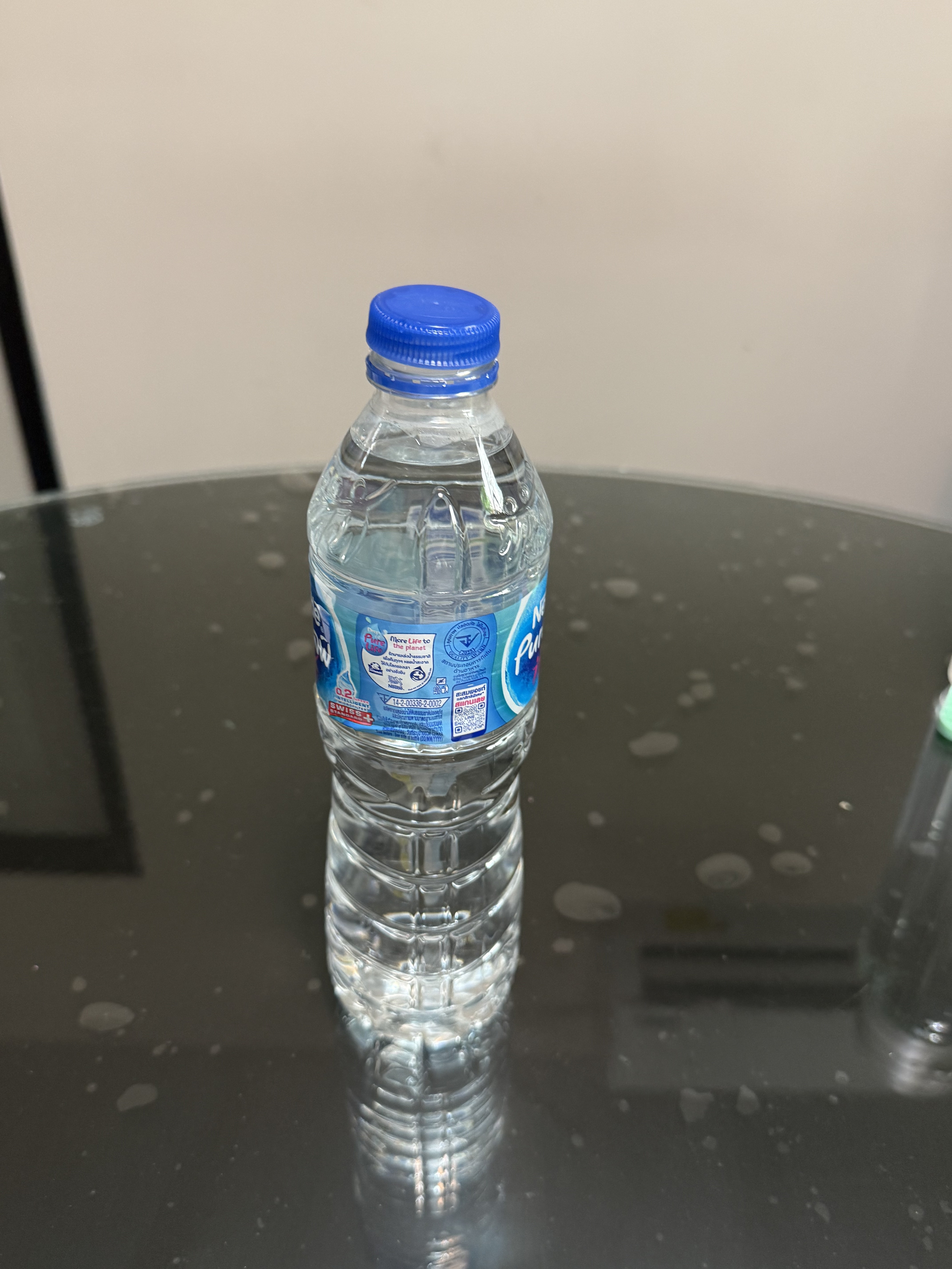half_cap: (361, 280, 503, 395)
